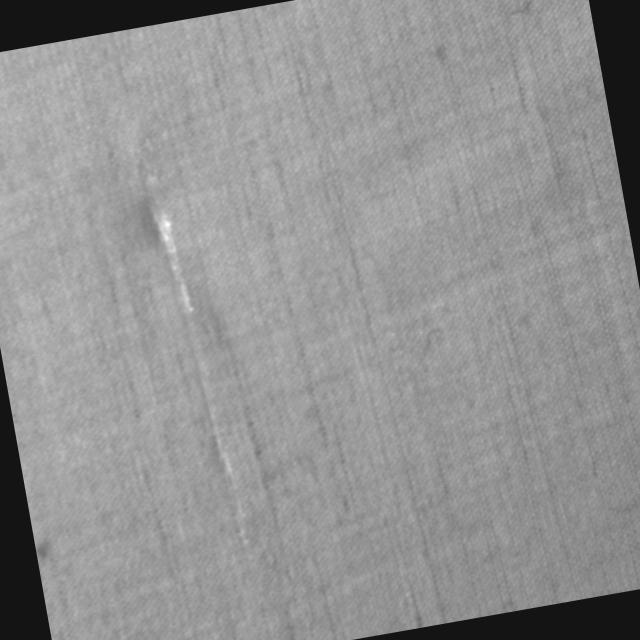thread error: (122, 122, 255, 570)
